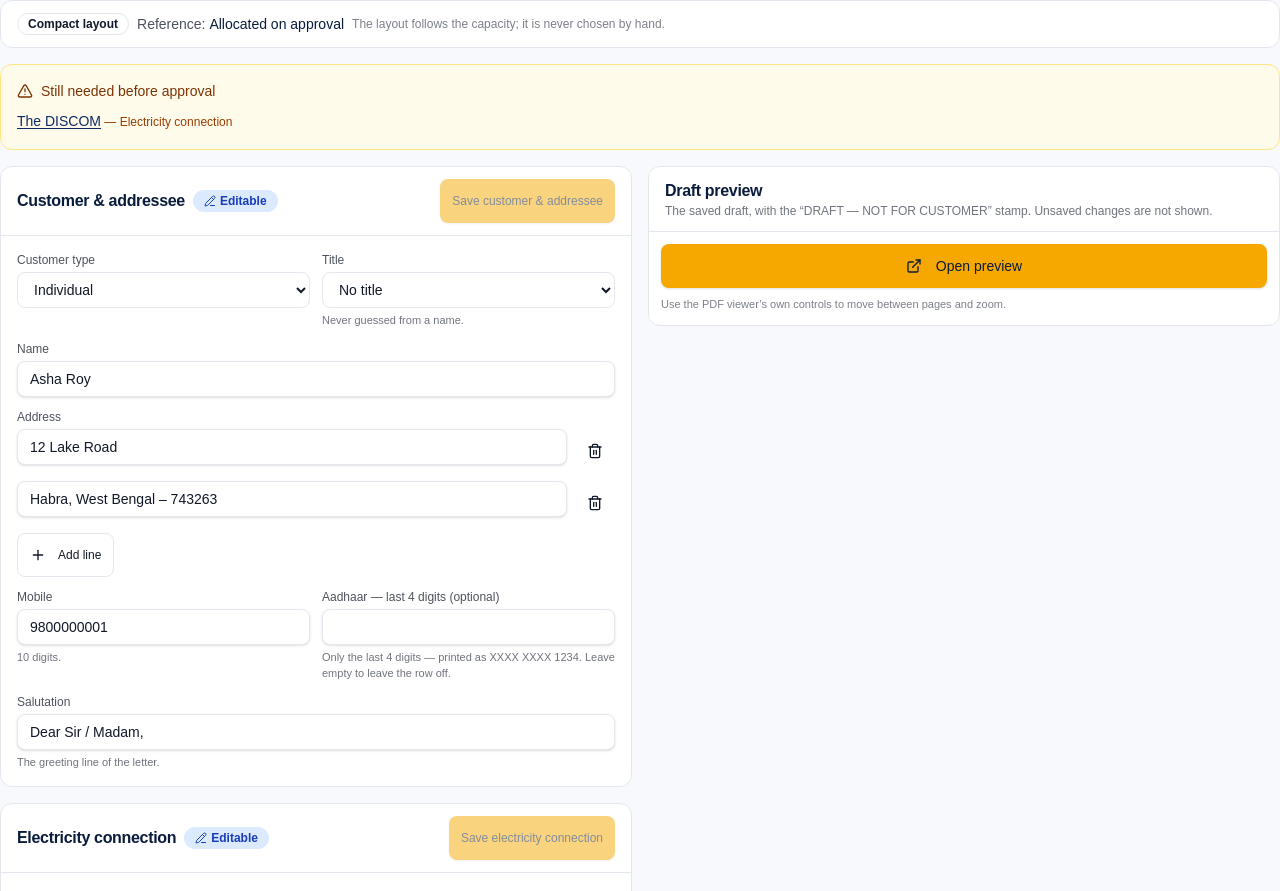
server errors land on the right field › {"name":"ApiError","status":409,"detail":"x","structuredDetail":{"code":"proposal_locked","message":"x"}} → section message
This screenshot has width=1280, height=891.
Type "x" into the field labelled "Name" at (316, 378), box x1=17 y1=360 x2=615 y2=396
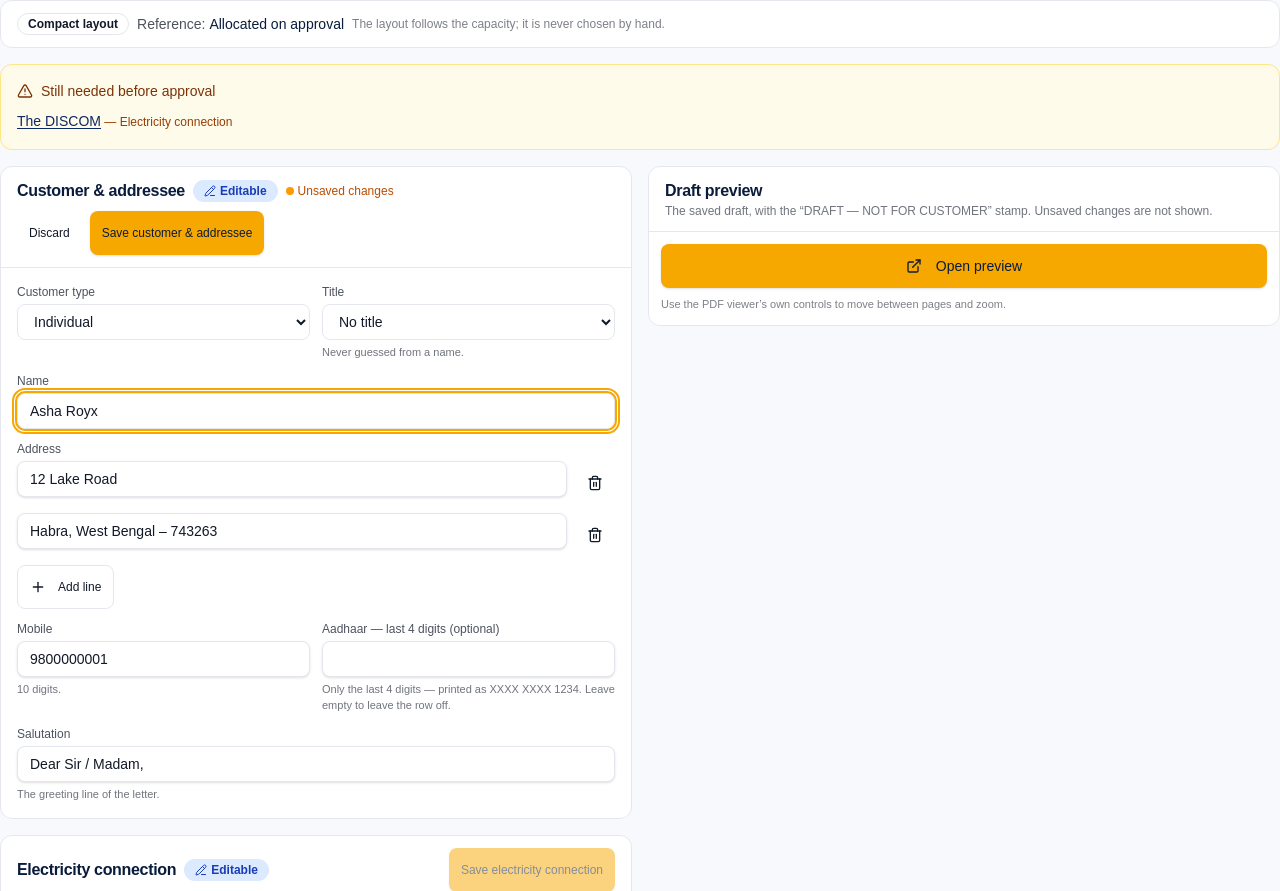
Click the button "Save customer & addressee" at (177, 233), box x1=90 y1=211 x2=264 y2=255
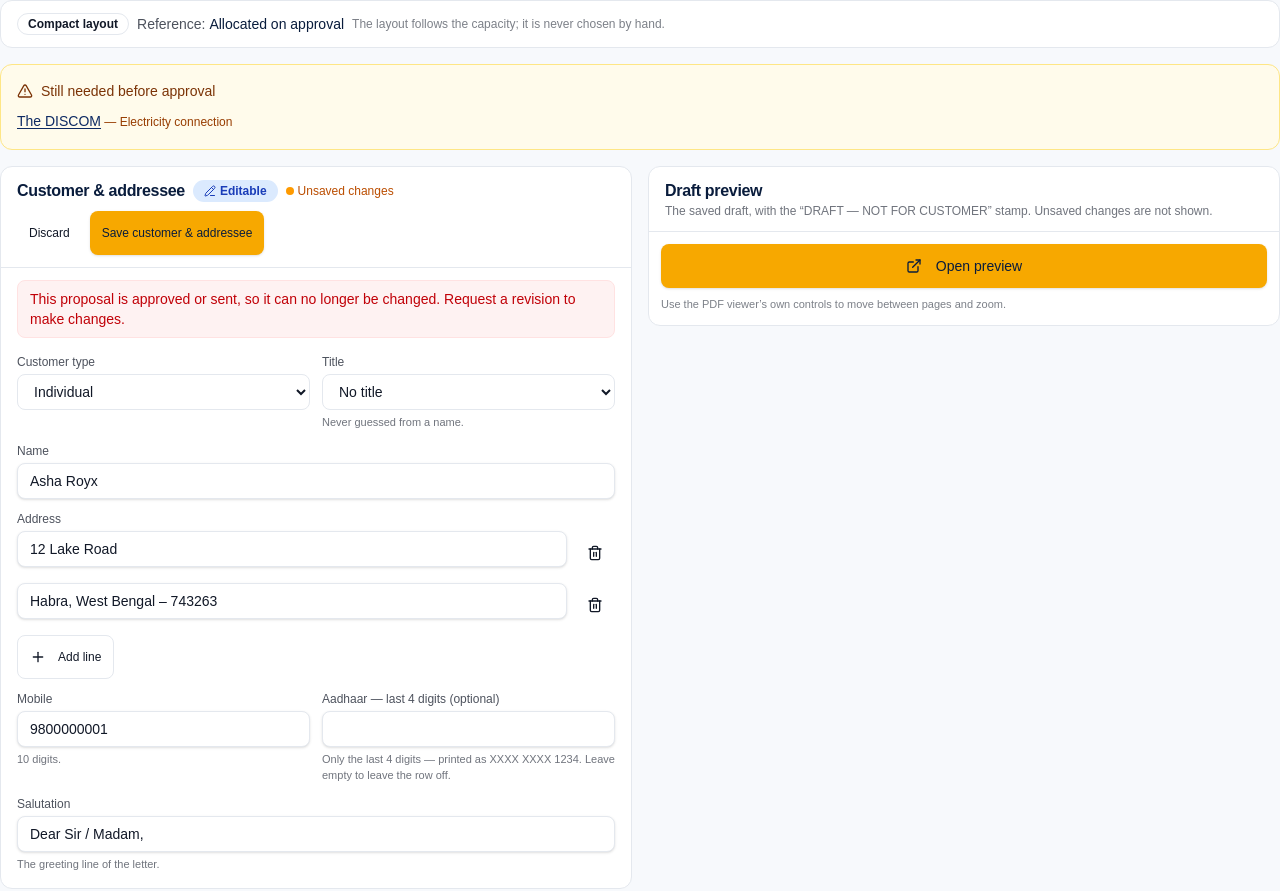
Now the text "This proposal is approved or sent, so it can no longer be changed. Request a revision to make changes." is shown, box x1=30 y1=291 x2=576 y2=327
